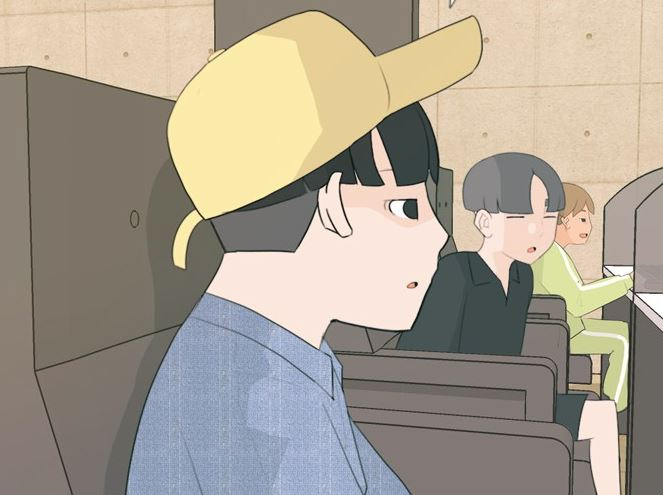hat: (166, 10, 481, 178)
